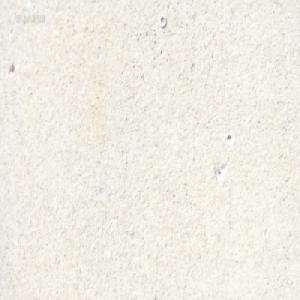Washer: (158, 14, 166, 28)
